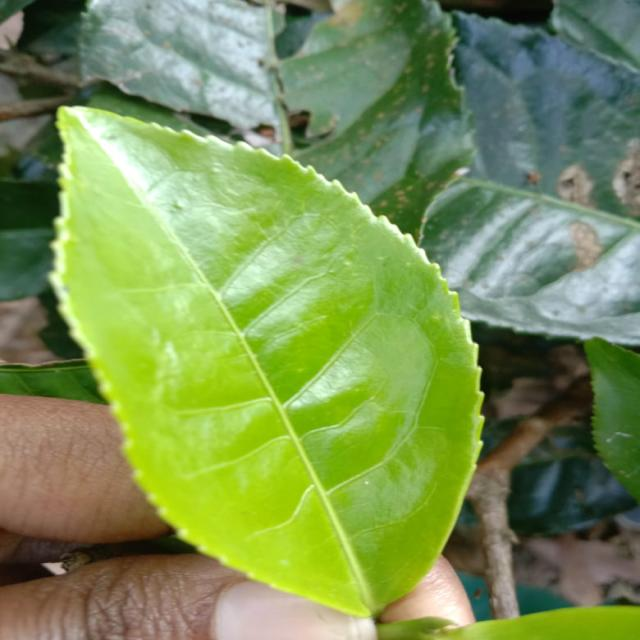Category B(2-4 days): (48, 99, 491, 624)
